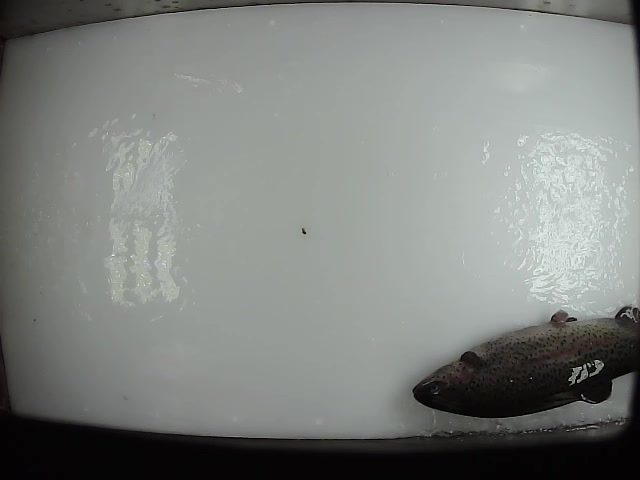fish: (411, 306, 640, 420)
